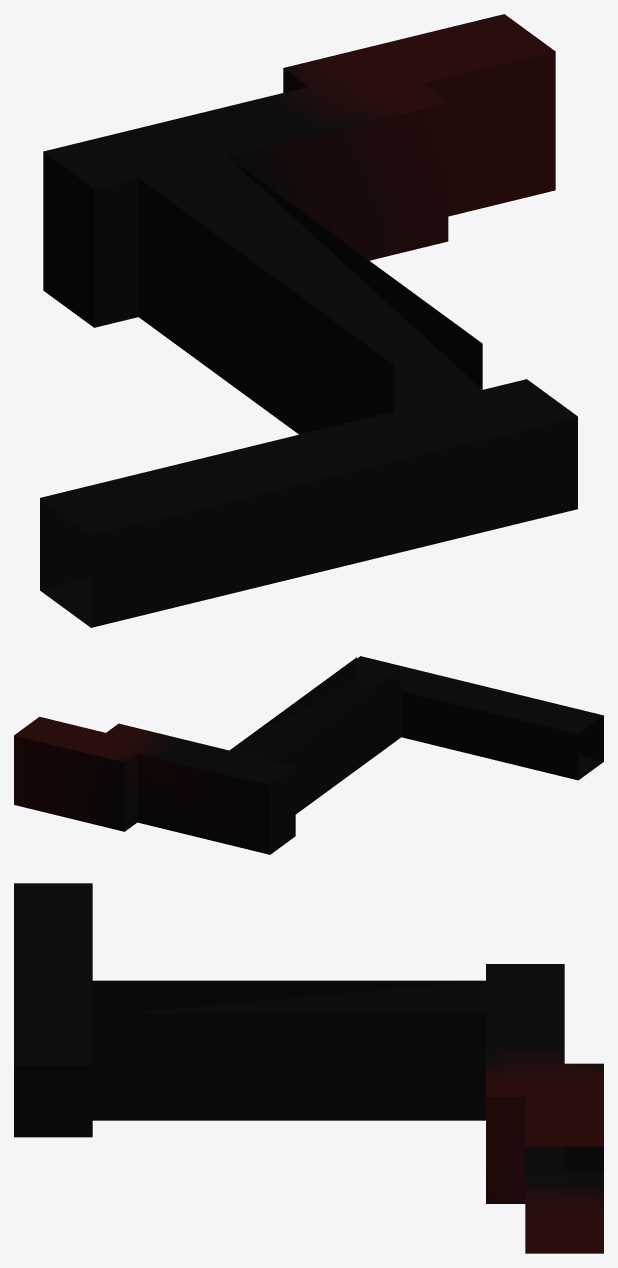
File: dungeon_entrance.obj
3 renders of one model, top to bottom at view 1: azimuth 30°, elevation 25°; view 2: azimuth 150°, elevation 25°; view 3: azimuth 270°, elevation 25°, orthographic. The views are drawn at different scales.
Parts seen in each view (by area): view 1: Plane.002; view 2: Plane.002; view 3: Plane.002.
Part boxes in pixels (x1,y1,x2,y2): Plane.002: (40,14,577,627); Plane.002: (14,656,603,854); Plane.002: (14,883,603,1253).
Size of the model in its own units: 18 by 3 by 15.
